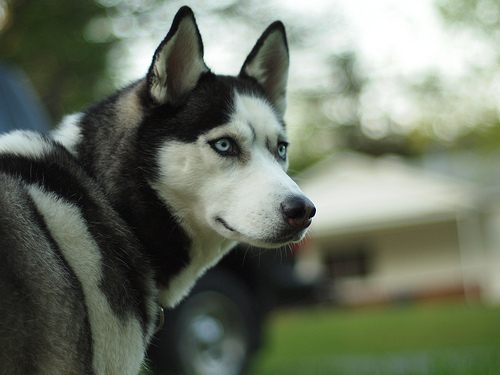dog: (1, 6, 316, 374)
